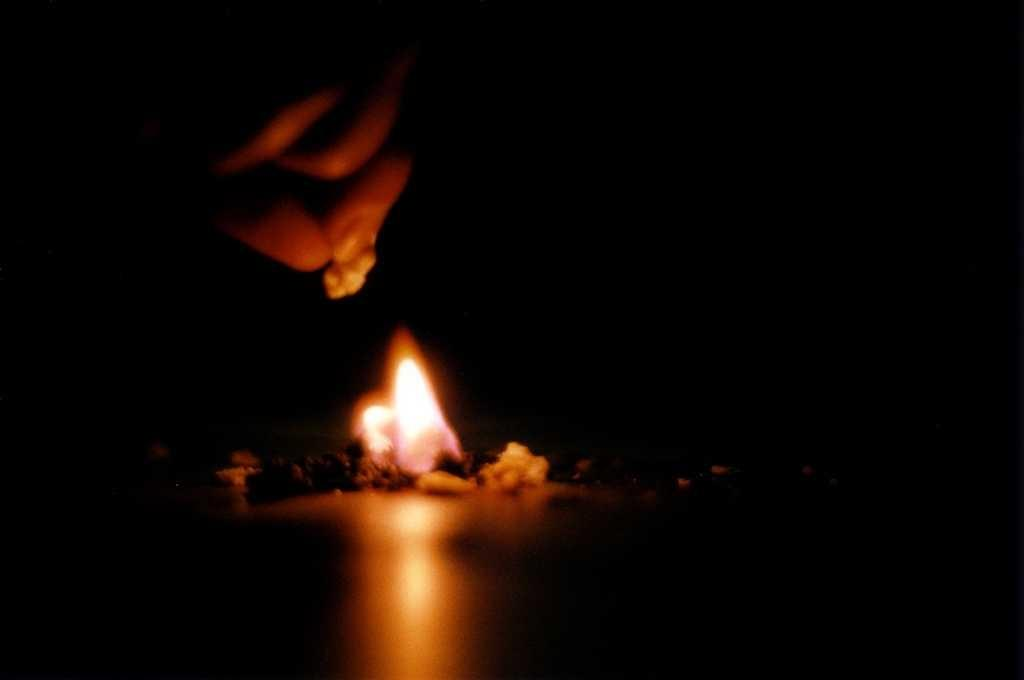fire: (343, 370, 460, 477)
